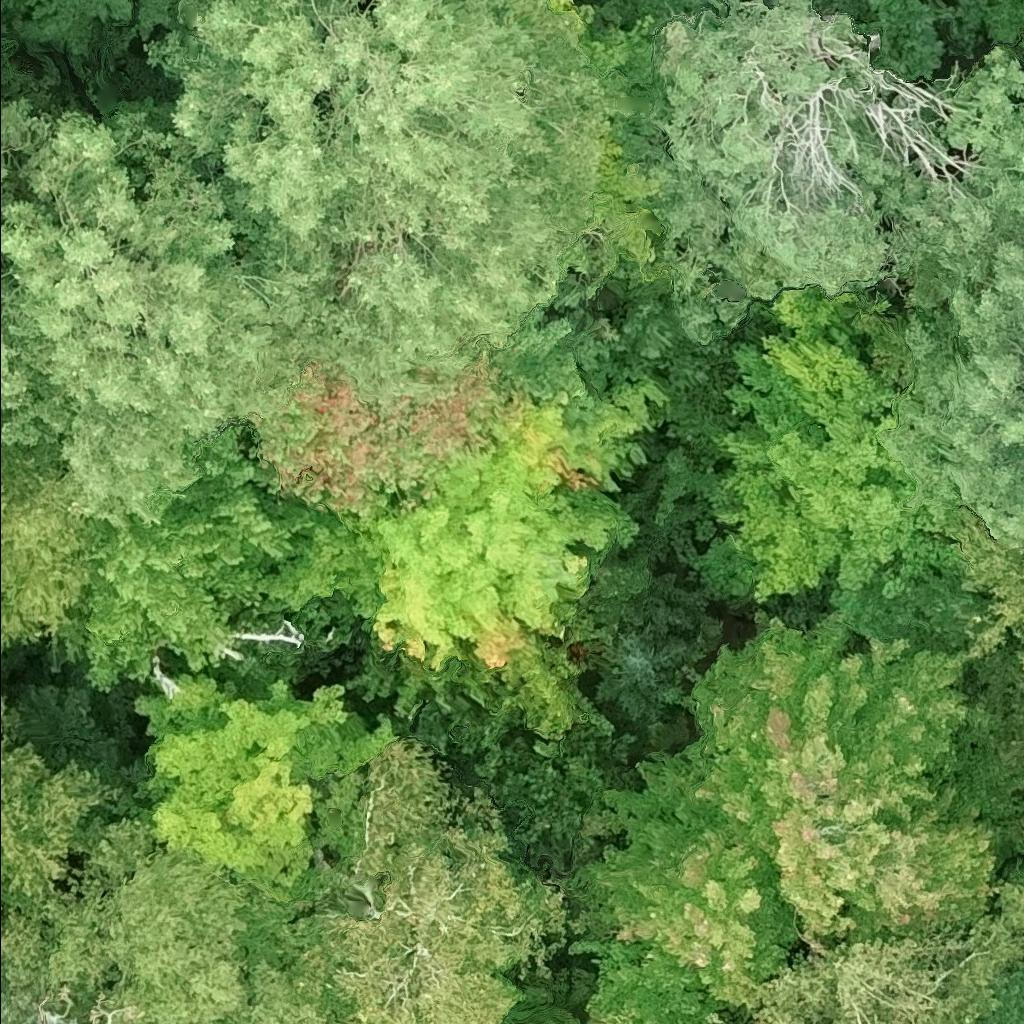crown: (140, 0, 618, 411), (0, 90, 338, 528), (646, 0, 1023, 343), (667, 609, 1002, 962), (366, 378, 669, 671), (298, 739, 572, 1023), (115, 672, 411, 911), (710, 326, 955, 607), (575, 757, 797, 1022), (240, 348, 538, 528), (0, 814, 253, 1023), (885, 173, 1023, 549), (52, 503, 270, 693), (736, 880, 1023, 1023), (0, 689, 121, 926), (0, 443, 106, 658), (173, 419, 315, 574), (940, 511, 1023, 680), (572, 941, 736, 1023), (594, 610, 713, 723), (217, 935, 348, 1023), (956, 696, 1023, 858), (0, 94, 48, 225), (0, 964, 99, 1023), (0, 316, 36, 426), (574, 0, 717, 25), (588, 1007, 638, 1023), (94, 1007, 133, 1023), (731, 1021, 740, 1023), (673, 1022, 677, 1023)
